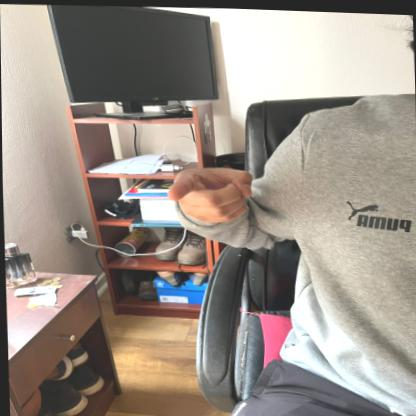X: (161, 154, 262, 231)
